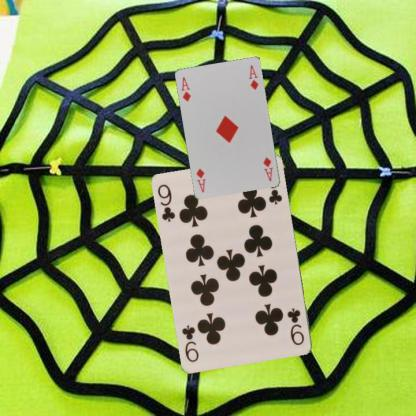9c: (284, 305, 306, 347), (155, 182, 177, 224)
Ad: (178, 74, 192, 103), (260, 155, 274, 182)
